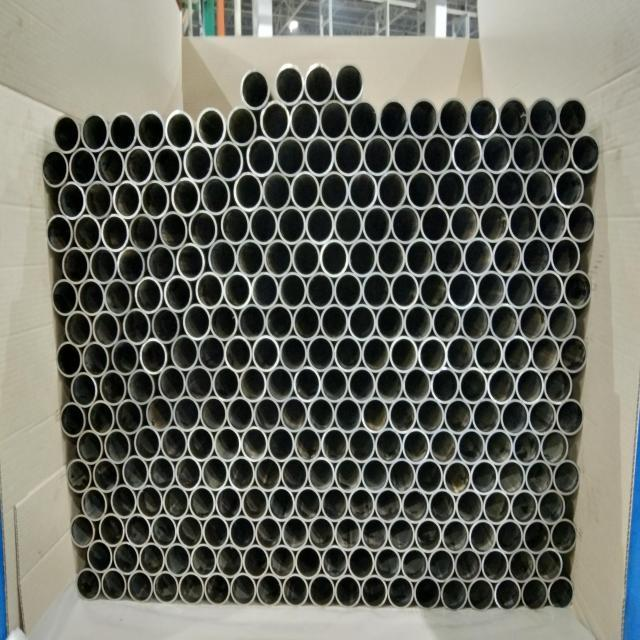pipe: (498, 95, 529, 139), (226, 105, 258, 146), (304, 63, 335, 105), (557, 96, 588, 138), (528, 96, 559, 138), (378, 98, 409, 140), (348, 98, 379, 140), (541, 132, 572, 174), (392, 134, 423, 176), (334, 61, 364, 104), (468, 96, 498, 139), (438, 96, 468, 139), (319, 98, 349, 141), (290, 99, 320, 142), (452, 132, 482, 175), (334, 134, 364, 177), (274, 64, 305, 105), (241, 68, 272, 109), (260, 101, 291, 142), (196, 107, 227, 148), (408, 97, 438, 139), (511, 132, 541, 174), (482, 132, 512, 174), (422, 133, 452, 175), (363, 134, 393, 176), (276, 135, 306, 177), (554, 167, 584, 209), (213, 141, 244, 181), (201, 175, 232, 215), (508, 202, 538, 243), (479, 202, 509, 243), (420, 203, 450, 244), (571, 132, 601, 173), (246, 136, 276, 177), (525, 168, 555, 209), (466, 168, 496, 209), (436, 168, 466, 209), (407, 169, 437, 210), (377, 170, 407, 211), (348, 170, 378, 211), (188, 209, 219, 248), (538, 202, 568, 242), (450, 203, 480, 243), (391, 204, 421, 244), (521, 236, 551, 276), (492, 236, 522, 276), (463, 237, 493, 277), (434, 237, 464, 277), (405, 237, 435, 277), (476, 270, 506, 310), (166, 110, 196, 150), (184, 142, 214, 182), (153, 145, 183, 185), (495, 168, 525, 208), (233, 172, 263, 212), (171, 177, 201, 217), (141, 179, 171, 219), (137, 110, 166, 151), (305, 136, 334, 177), (125, 145, 154, 186), (291, 170, 320, 211), (176, 242, 207, 280), (220, 206, 250, 245), (159, 211, 189, 250), (128, 213, 158, 252), (117, 245, 147, 284), (461, 303, 491, 342), (489, 303, 519, 342), (567, 202, 596, 242), (363, 204, 392, 244), (305, 205, 334, 245), (334, 205, 363, 245), (277, 205, 306, 245), (249, 205, 278, 245), (101, 213, 130, 253), (73, 213, 102, 253), (551, 236, 580, 276), (377, 238, 406, 278), (348, 238, 377, 278), (236, 238, 265, 278), (320, 238, 349, 278), (534, 269, 563, 309), (563, 270, 592, 310), (506, 270, 535, 310), (448, 270, 477, 310), (419, 270, 448, 310), (109, 111, 138, 151), (52, 113, 81, 153), (69, 147, 98, 187), (320, 171, 349, 211), (263, 171, 292, 211), (97, 145, 125, 186), (147, 244, 177, 282), (164, 275, 194, 313), (264, 238, 293, 277), (292, 239, 321, 278), (208, 239, 237, 278), (390, 271, 419, 310), (547, 302, 576, 341), (432, 303, 461, 342), (518, 303, 547, 342), (376, 303, 405, 342), (404, 303, 433, 342), (502, 335, 531, 374), (531, 335, 560, 374), (81, 112, 110, 151), (113, 180, 141, 220), (85, 180, 113, 220), (151, 307, 181, 344), (169, 335, 199, 372), (139, 337, 169, 374), (195, 272, 224, 310), (135, 276, 164, 314), (104, 278, 133, 316), (238, 303, 267, 341), (122, 308, 151, 346), (446, 335, 475, 373), (474, 335, 503, 373), (418, 336, 447, 374), (403, 366, 432, 404), (544, 367, 573, 405), (487, 367, 516, 405), (515, 367, 544, 405), (416, 397, 445, 435), (512, 428, 541, 466), (46, 214, 74, 253), (62, 246, 90, 285), (224, 271, 252, 310), (251, 271, 279, 310), (279, 271, 307, 310), (362, 271, 390, 310), (334, 271, 362, 310), (307, 271, 335, 310), (348, 303, 376, 342), (41, 148, 69, 187), (58, 181, 86, 220), (182, 303, 211, 340), (92, 310, 121, 347), (82, 340, 111, 377), (157, 365, 186, 402), (431, 367, 460, 404), (145, 396, 174, 433), (87, 399, 116, 436), (293, 303, 321, 341), (265, 303, 293, 341), (210, 303, 238, 341), (321, 303, 349, 341), (198, 334, 226, 372), (252, 334, 280, 372), (225, 334, 253, 372), (279, 335, 307, 373), (307, 335, 335, 373), (334, 335, 362, 373), (362, 335, 390, 373), (390, 335, 418, 373), (266, 365, 294, 403), (375, 366, 403, 404), (459, 366, 487, 404), (389, 396, 417, 434), (444, 397, 472, 435), (472, 397, 500, 435), (528, 397, 556, 435), (556, 398, 584, 436), (501, 398, 529, 436), (430, 427, 458, 465), (90, 246, 117, 285), (78, 278, 105, 317), (127, 369, 156, 405), (99, 370, 128, 406), (70, 371, 99, 407), (115, 398, 144, 434), (133, 426, 162, 462), (104, 428, 133, 464), (92, 457, 121, 493), (185, 365, 213, 402), (293, 365, 321, 402), (239, 366, 267, 403), (321, 366, 349, 403), (348, 366, 376, 403), (173, 395, 201, 432), (280, 395, 308, 432), (253, 396, 281, 433), (307, 396, 335, 433), (334, 396, 362, 433), (361, 396, 389, 433), (241, 425, 269, 462), (375, 427, 403, 464), (402, 427, 430, 464), (457, 428, 485, 465), (485, 429, 513, 466), (308, 456, 336, 493), (361, 457, 389, 494), (388, 457, 416, 494), (415, 458, 443, 495), (443, 458, 471, 495), (470, 459, 498, 496), (498, 459, 526, 496), (525, 459, 553, 496), (553, 461, 581, 498), (375, 487, 403, 524), (414, 517, 442, 554), (441, 518, 469, 555), (523, 518, 551, 555), (66, 310, 93, 348), (559, 335, 586, 373), (200, 395, 227, 433), (227, 395, 254, 433), (541, 428, 568, 466), (111, 340, 140, 375), (401, 488, 429, 524), (428, 488, 456, 524), (456, 489, 484, 525), (537, 489, 565, 525), (510, 489, 538, 525), (468, 518, 496, 554), (496, 518, 524, 554), (56, 341, 83, 378), (213, 365, 240, 402), (214, 425, 241, 462), (268, 426, 295, 463), (321, 426, 348, 463), (348, 426, 375, 463), (295, 426, 322, 463), (175, 455, 202, 492), (202, 455, 229, 492), (228, 455, 255, 492), (255, 455, 282, 492), (281, 455, 308, 492), (335, 456, 362, 493), (242, 485, 269, 522), (268, 485, 295, 522), (321, 485, 348, 522), (348, 486, 375, 523), (361, 515, 388, 552), (388, 516, 415, 553), (81, 486, 109, 521), (454, 547, 482, 582), (60, 401, 87, 437), (161, 426, 188, 462), (188, 426, 215, 462), (149, 455, 176, 491), (110, 484, 137, 520), (137, 484, 164, 520), (163, 484, 190, 520), (189, 485, 216, 521), (215, 485, 242, 521), (295, 486, 322, 522), (483, 489, 510, 525), (229, 514, 256, 550), (256, 514, 283, 550), (282, 515, 309, 551), (308, 515, 335, 551), (335, 515, 362, 551), (550, 518, 577, 554), (216, 543, 243, 579), (242, 543, 269, 579), (269, 543, 296, 579), (295, 544, 322, 580), (321, 544, 348, 580), (348, 545, 375, 581), (374, 545, 401, 581), (401, 546, 428, 582), (428, 547, 455, 583), (536, 547, 563, 583), (482, 547, 509, 583), (509, 547, 536, 583), (52, 279, 78, 316), (77, 429, 104, 464), (256, 572, 283, 607), (308, 573, 335, 608), (387, 574, 414, 609), (521, 576, 548, 611), (441, 576, 468, 611), (468, 576, 495, 611), (123, 455, 149, 491), (66, 458, 92, 494), (151, 513, 177, 549), (177, 513, 203, 549), (203, 514, 229, 550), (191, 542, 217, 578), (98, 513, 125, 547), (70, 514, 97, 548), (113, 541, 140, 575), (282, 574, 309, 608), (335, 574, 362, 608), (414, 576, 441, 610), (494, 577, 521, 611), (125, 513, 151, 548), (139, 542, 165, 577), (75, 567, 101, 602), (127, 569, 153, 604), (153, 570, 179, 605), (205, 571, 231, 606), (230, 572, 256, 607), (361, 574, 387, 609), (548, 575, 574, 610), (166, 542, 191, 578), (101, 568, 127, 602), (179, 571, 204, 606), (87, 540, 113, 573)
